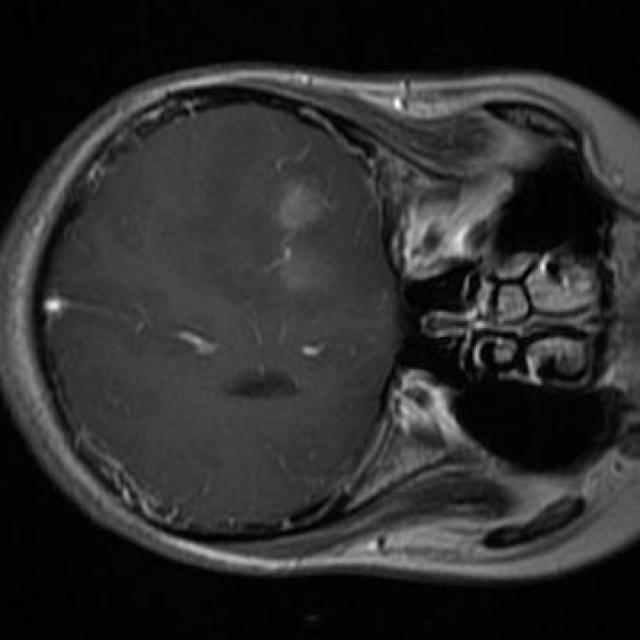glioma: (271, 175, 335, 292)
